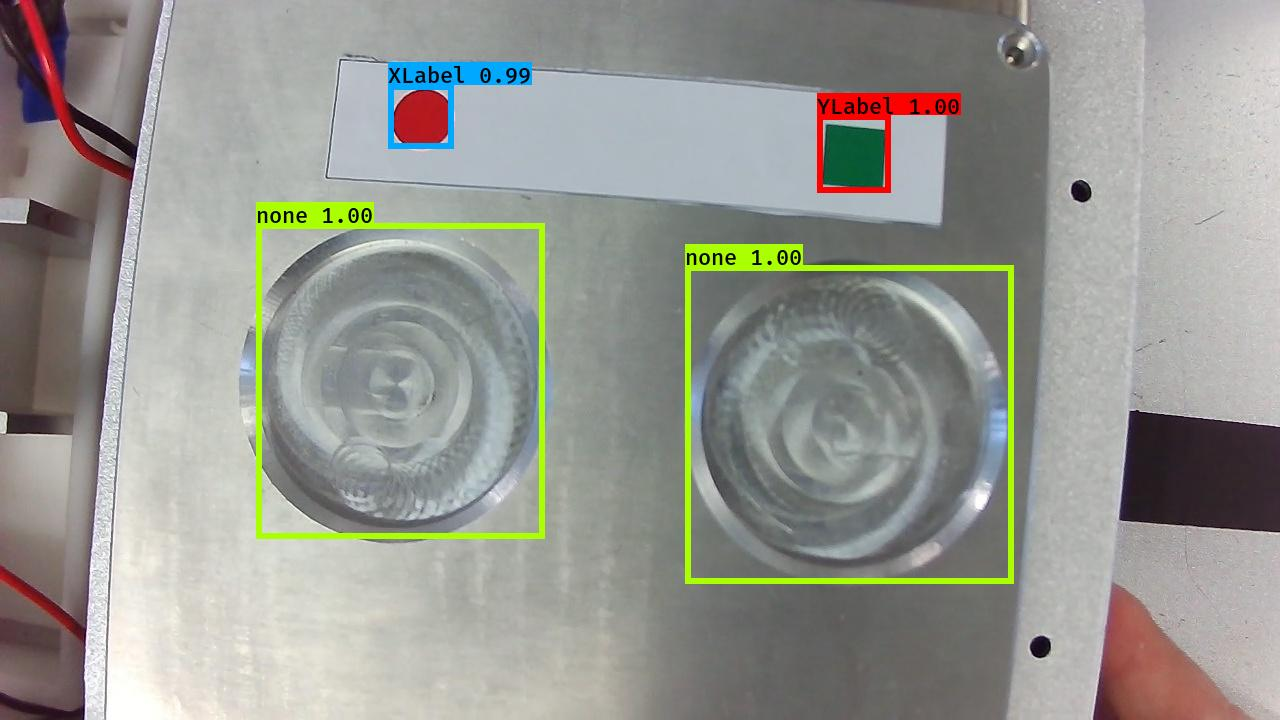XLabel: (390, 85, 456, 151)
YLabel: (817, 120, 890, 193)
none: (681, 254, 1013, 585), (232, 215, 561, 548)
